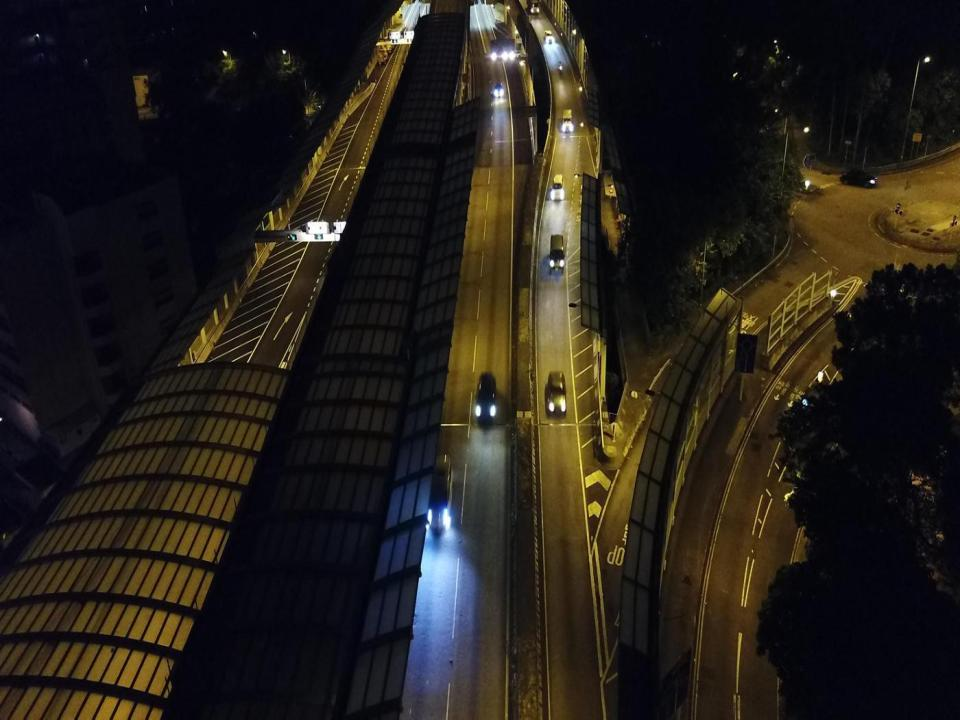car: (424, 453, 454, 533), (474, 371, 498, 424), (546, 369, 568, 419), (839, 169, 879, 188), (549, 173, 565, 201), (544, 29, 555, 44), (494, 83, 504, 97)
van: (548, 233, 565, 274), (561, 108, 573, 132), (526, 0, 540, 13)
